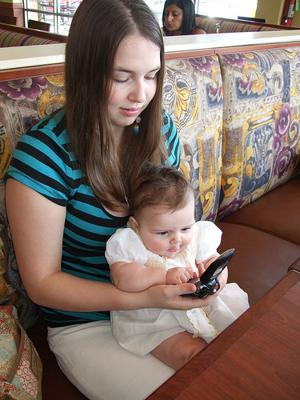person: (4, 3, 229, 390)
